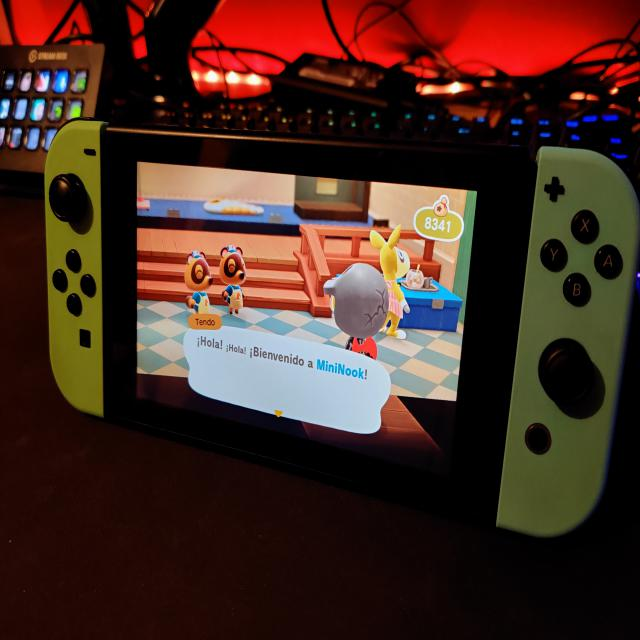text_bubble: (184, 310, 393, 439)
